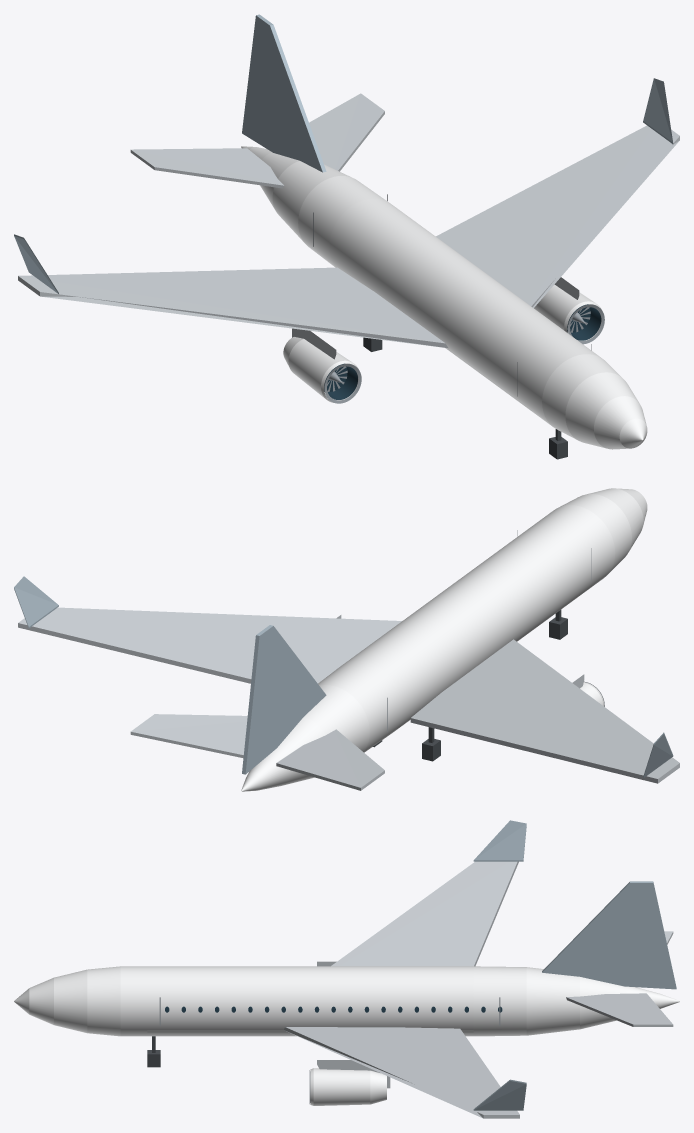
File: a320-neutral-v3.gltf
3 renders of one model, top to bottom at view 1: azimuth 30°, elevation 25°; view 2: azimuth 150°, elevation 25°; view 3: azimuth 270°, elevation 25°, orthographic. The views are drawn at different scales.
Visible parts, largest first — view 1: object 1, Gear; view 2: object 1, Gear; view 3: object 1.
Boxes of the visible parts, left/top/right/bottom form: object 1: left=14, top=14, right=679, bottom=449; Gear: left=363, top=337, right=567, bottom=459; object 1: left=14, top=488, right=679, bottom=791; Gear: left=373, top=610, right=567, bottom=761; object 1: left=14, top=820, right=679, bottom=1118.
Size of the model in its own units: 35 by 11.51 by 38.
